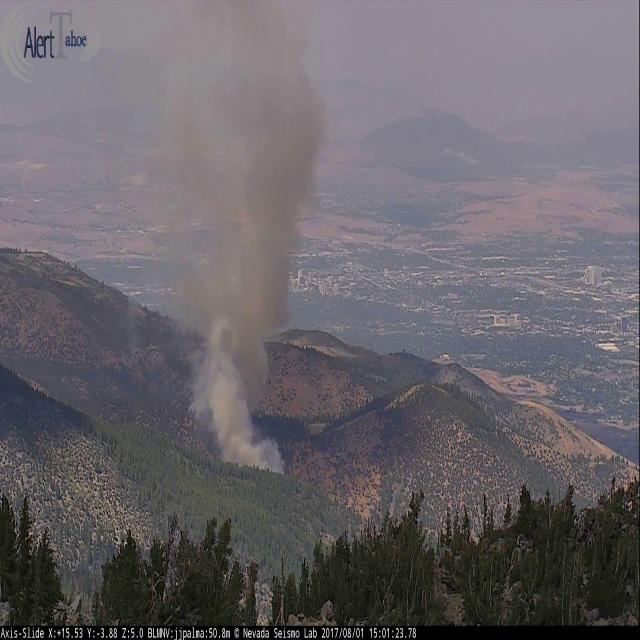smoke: (162, 35, 335, 481)
